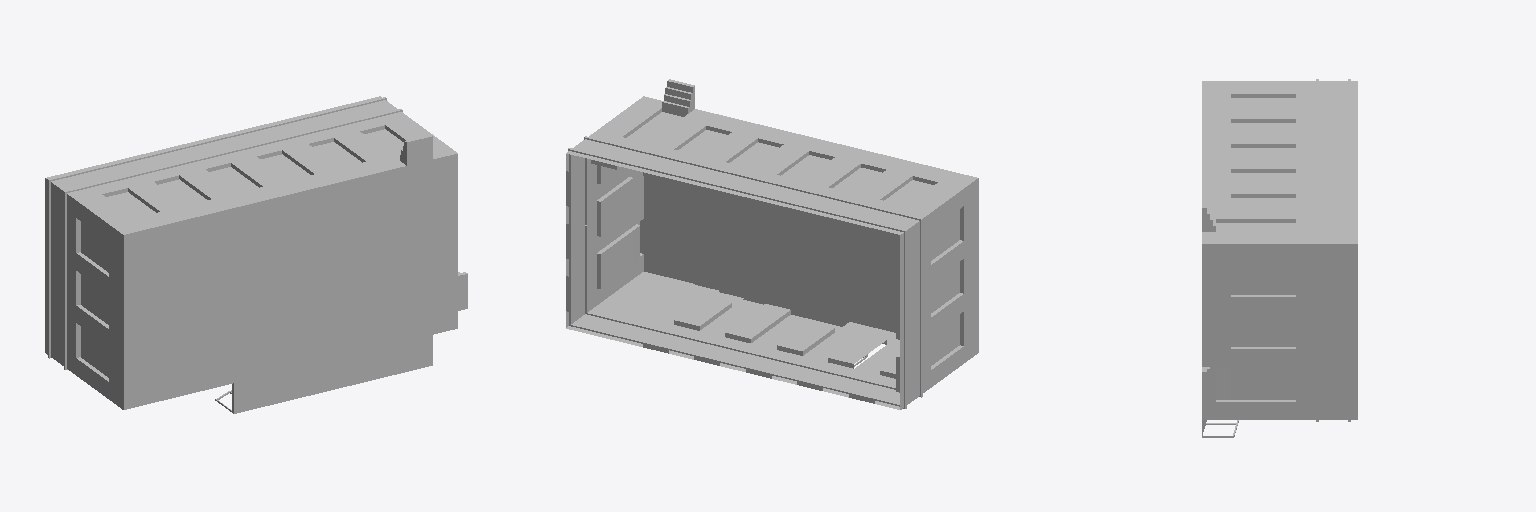
File: jedna drugaa dom star.obj
The picture shows the model from 3 angles: view 1: azimuth 30°, elevation 25°; view 2: azimuth 150°, elevation 25°; view 3: azimuth 270°, elevation 25°; orthographic projection.
Visible parts, largest first — view 1: Dom_Starościński_Cube.002; view 2: Dom_Starościński_Cube.002; view 3: Dom_Starościński_Cube.002.
Boxes of the visible parts, box(x1,y1,x2,y2) form: Dom_Starościński_Cube.002: box(45, 96, 467, 413); Dom_Starościński_Cube.002: box(566, 79, 978, 409); Dom_Starościński_Cube.002: box(1202, 79, 1357, 437).
Size of the model in its own units: 0.0386 by 0.0245 by 0.0151.